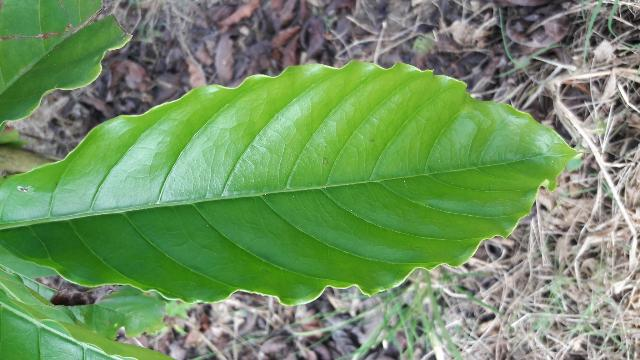healthy: (8, 65, 572, 301)
